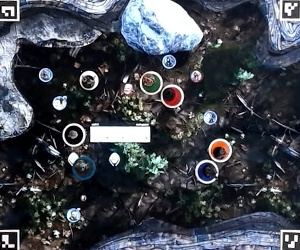black: (62, 125, 85, 148)
blue: (199, 162, 222, 185)
brown_turquoise: (71, 159, 94, 182)
green: (141, 68, 164, 91)
orange: (215, 140, 238, 163)
red: (162, 85, 185, 108)
white: (75, 68, 98, 91)
